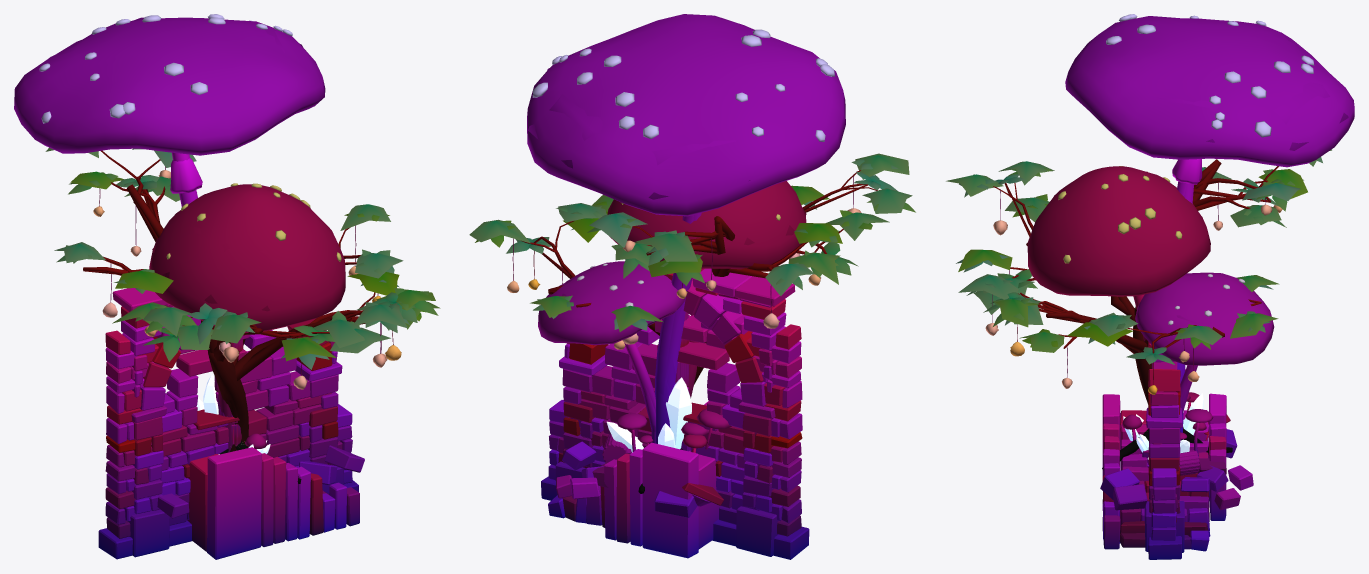
The model's file is biomes.fbx.
The picture shows the model from 3 angles, left to right: view 1: azimuth 30°, elevation 25°; view 2: azimuth 150°, elevation 25°; view 3: azimuth 270°, elevation 25°; orthographic projection. The views are drawn at different scales.
Parts seen in each view (by area): view 1: GiantMushroomA_hi, RuinWall, GiantMushroomB_hi, RuinSteps, LanternTree_lo, RuinArch, LanternTree_hi, CrystalA_hi; view 2: GiantMushroomA_hi, RuinWall, RuinArch, GiantMushroomB_hi, LanternTree_lo, RuinSteps, LanternTree_hi, GiantMushroomA_lo, CrystalA_hi, RuinColumnBroken, GiantMushroomB_lo; view 3: GiantMushroomA_hi, GiantMushroomB_hi, LanternTree_lo, RuinSteps, LanternTree_hi, RuinArch, RuinWall, GiantMushroomA_lo, CrystalA_hi, RuinColumnBroken, GiantMushroomB_lo.
Boxes of the visible parts, x1=… form: GiantMushroomA_hi: x1=14, y1=14, x2=325, y2=448; RuinWall: x1=98, y1=326, x2=364, y2=559; GiantMushroomB_hi: x1=149, y1=183, x2=345, y2=416; RuinSteps: x1=187, y1=447, x2=359, y2=559; LanternTree_lo: x1=45, y1=147, x2=440, y2=451; RuinArch: x1=112, y1=288, x2=344, y2=557; LanternTree_hi: x1=56, y1=150, x2=438, y2=483; CrystalA_hi: x1=196, y1=374, x2=270, y2=453; GiantMushroomA_hi: x1=527, y1=14, x2=845, y2=452; RuinWall: x1=541, y1=315, x2=809, y2=559; RuinArch: x1=555, y1=268, x2=795, y2=556; GiantMushroomB_hi: x1=538, y1=181, x2=806, y2=445; LanternTree_lo: x1=469, y1=153, x2=912, y2=384; RuinSteps: x1=548, y1=401, x2=720, y2=558; LanternTree_hi: x1=475, y1=159, x2=915, y2=493; GiantMushroomA_lo: x1=528, y1=32, x2=750, y2=452; CrystalA_hi: x1=606, y1=377, x2=691, y2=452; RuinColumnBroken: x1=602, y1=372, x2=723, y2=506; GiantMushroomB_lo: x1=541, y1=208, x2=806, y2=443; GiantMushroomA_hi: x1=1065, y1=14, x2=1354, y2=456; GiantMushroomB_hi: x1=1027, y1=166, x2=1274, y2=440; LanternTree_lo: x1=946, y1=150, x2=1331, y2=440; RuinSteps: x1=1102, y1=393, x2=1253, y2=551; LanternTree_hi: x1=956, y1=149, x2=1331, y2=475; RuinArch: x1=1100, y1=342, x2=1237, y2=552; RuinWall: x1=1113, y1=353, x2=1228, y2=559; GiantMushroomA_lo: x1=1132, y1=32, x2=1348, y2=440; CrystalA_hi: x1=1123, y1=393, x2=1208, y2=459; RuinColumnBroken: x1=1143, y1=414, x2=1230, y2=475; GiantMushroomB_lo: x1=1054, y1=171, x2=1252, y2=440.
Size of the model in its own units: 11.81 by 15.71 by 12.91.
